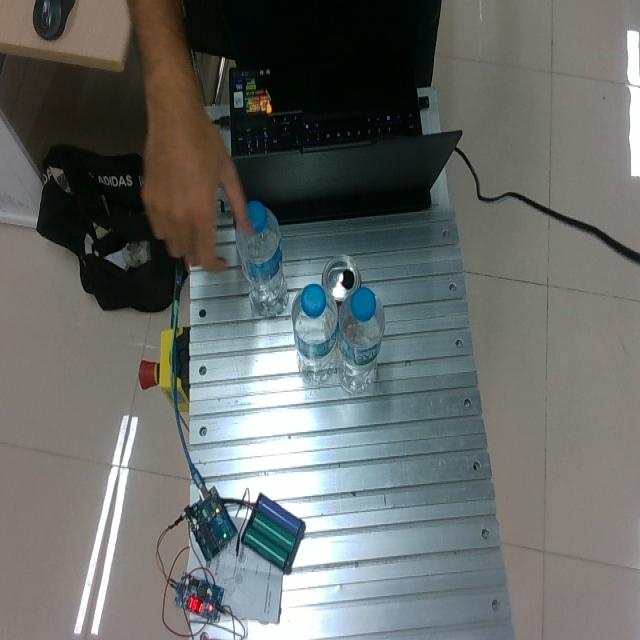coca: (321, 254, 363, 310)
lavie: (237, 205, 288, 316), (338, 287, 385, 392), (292, 287, 339, 385)
